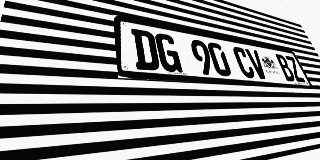0: (206, 42, 233, 77)
9: (189, 38, 216, 75)
B: (274, 54, 297, 82)
C: (231, 46, 257, 78)
D: (131, 28, 161, 71)
G: (154, 32, 183, 73)
V: (245, 48, 269, 79)
Z: (284, 55, 306, 82)
